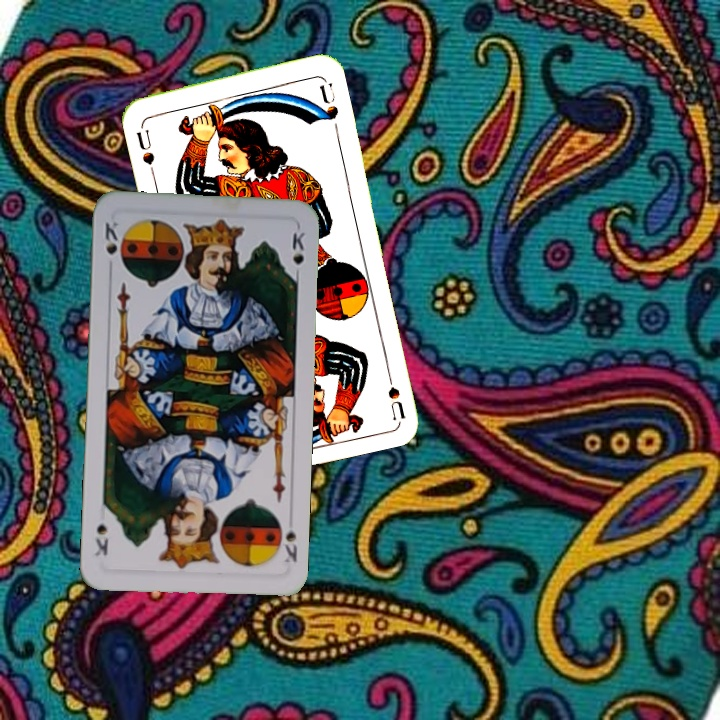SK: (273, 514, 300, 566), (101, 216, 122, 257)
SU: (381, 361, 408, 421), (132, 119, 158, 178)
